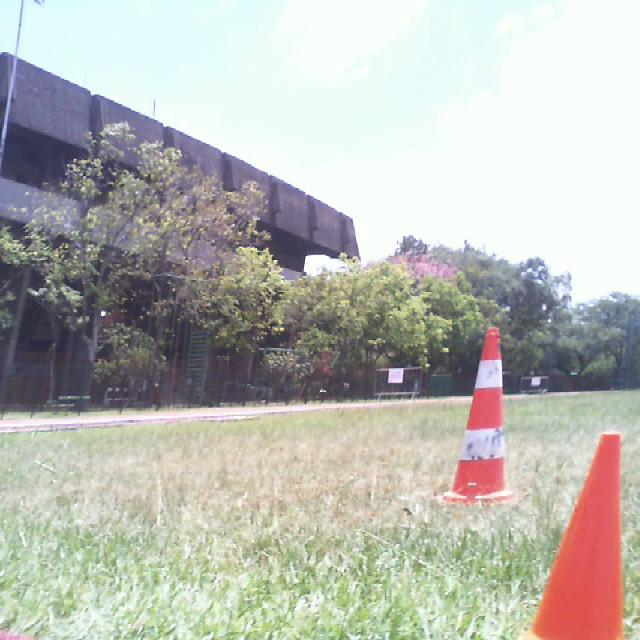cone: (524, 432, 622, 640), (444, 325, 514, 500)
